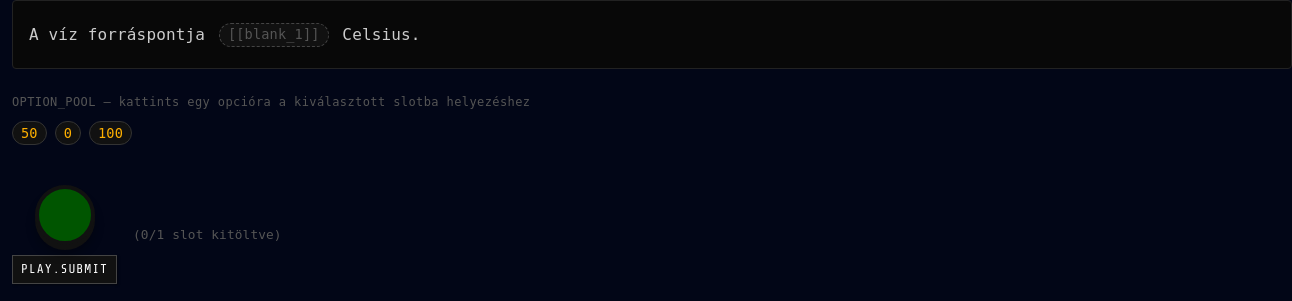
Test case: FillInBlankView › Pool chip kattintás → az első üres slotba kerül
Expected: the text "100" is shown, [98,125,123,141]
Kattintunk a "100" pool chipre
Click the button "100": (110, 133) [89,121,132,145]
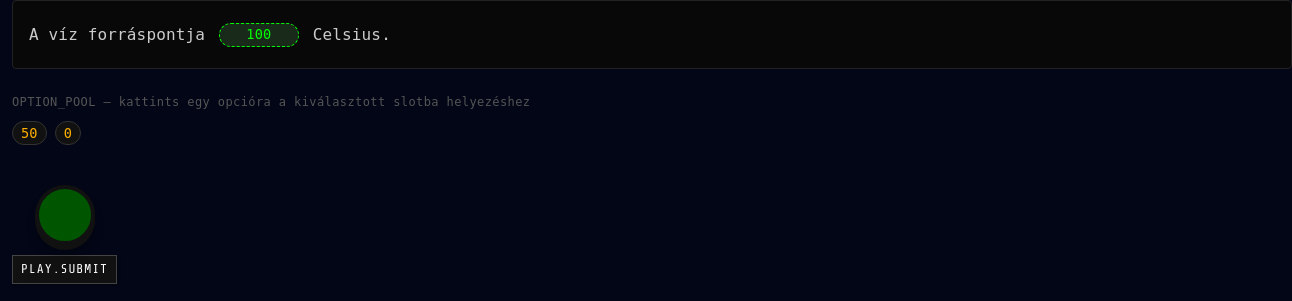
Expected: the text "100" is shown once, [246,26,271,42]
